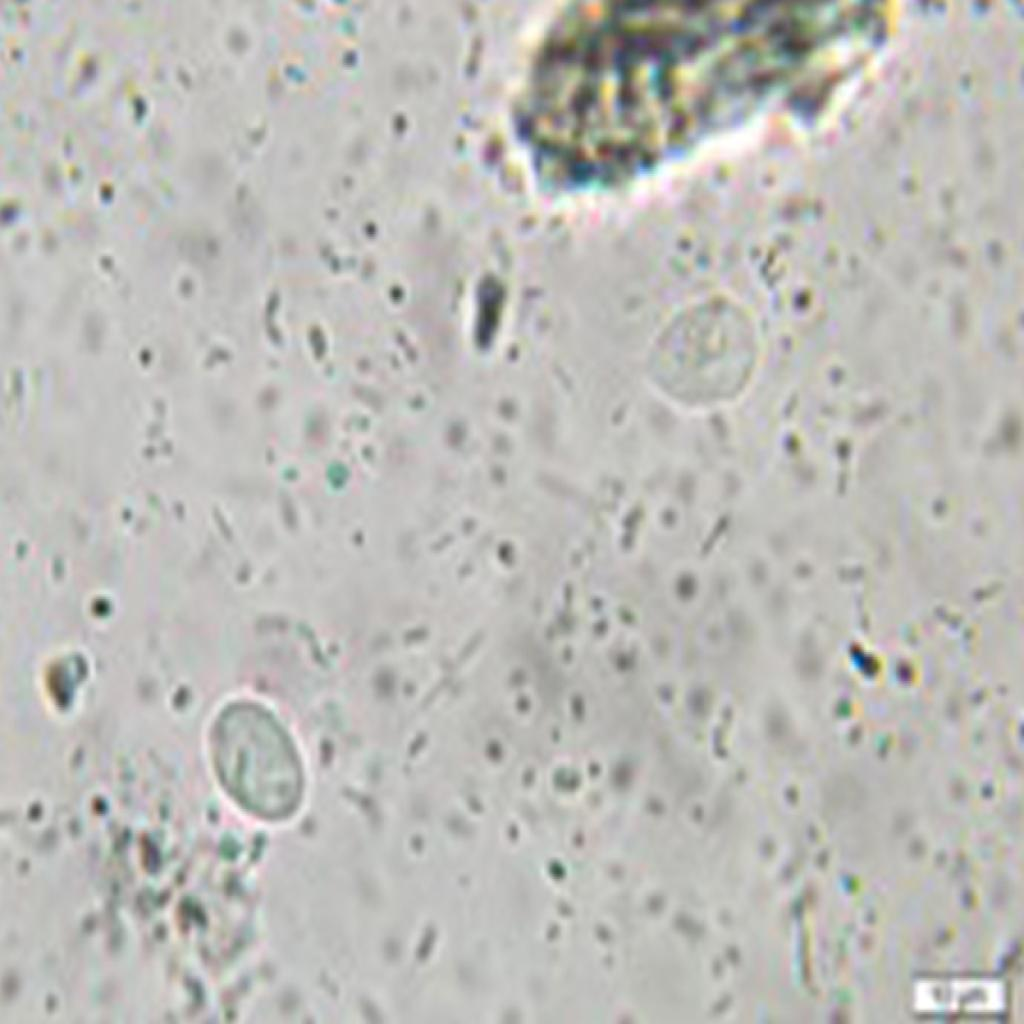Giardia: (194, 691, 312, 831), (638, 294, 766, 418)
